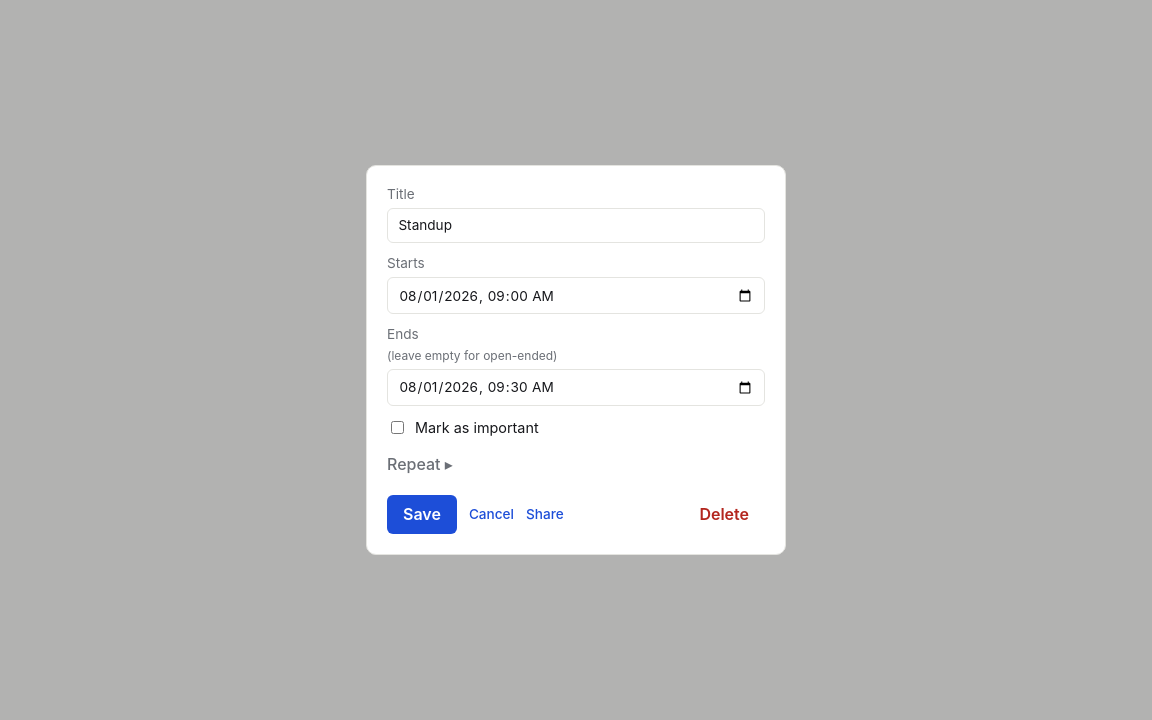
Test: EventEditPanel › refuses an end before the start rather than saving it
Replace the text in the field labelled "Ends (leave empty for open-ended)" with "2026-08-01T08:00" at (576, 387), box [387, 369, 765, 406]
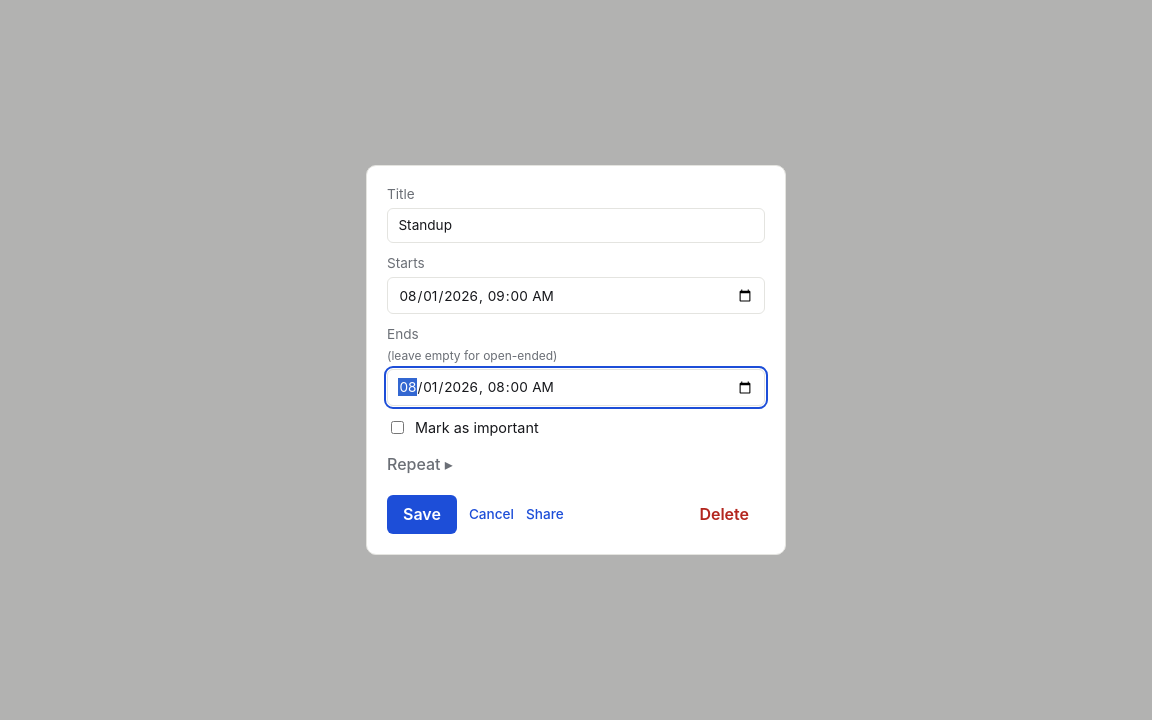
Click the button "Save" at (422, 514), box [387, 495, 457, 534]
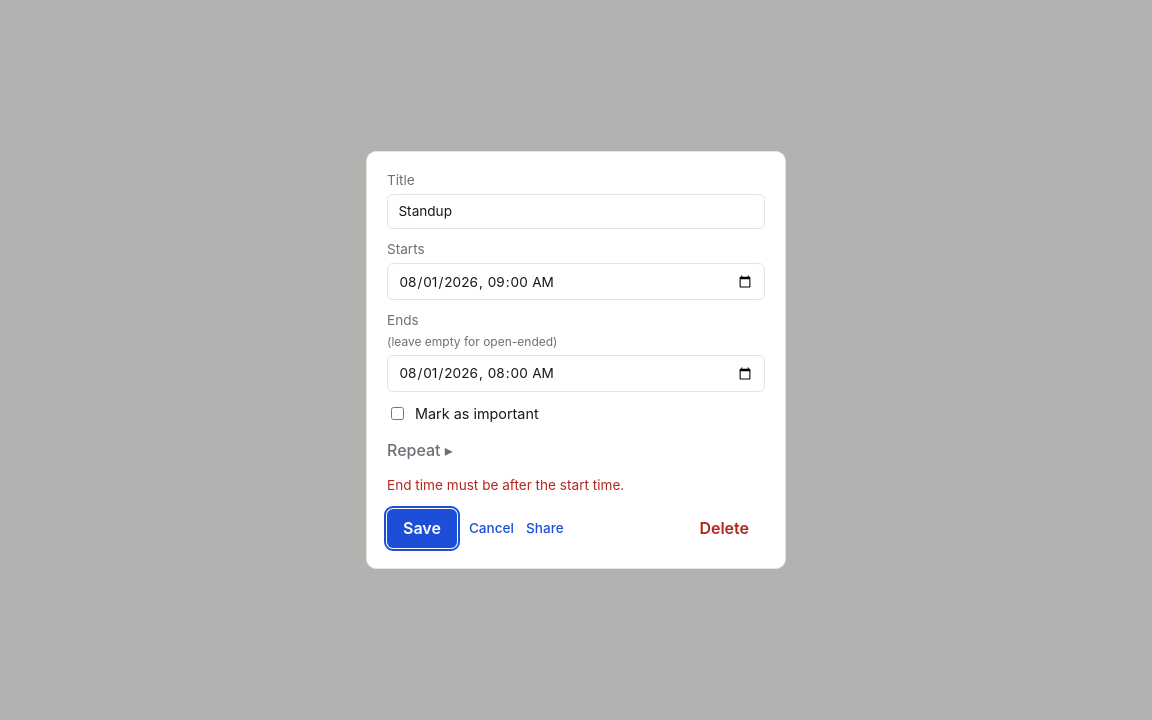
Now the message shows "must be after", box [387, 477, 624, 493]
